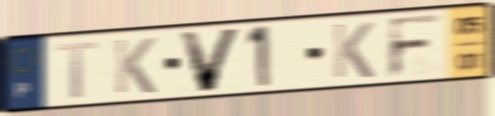1: (244, 22, 273, 91)
F: (385, 12, 446, 81)
K: (330, 20, 376, 81), (112, 36, 158, 96)
T: (53, 39, 100, 101)
V: (176, 25, 246, 95)
